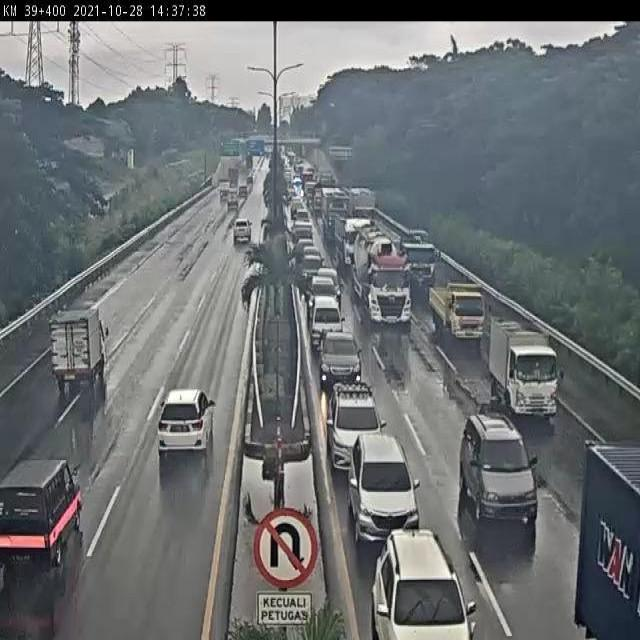big truck: (576, 432, 640, 640), (349, 232, 409, 332), (395, 224, 451, 303)
car: (366, 522, 478, 640), (453, 411, 538, 521), (3, 451, 84, 564), (348, 432, 416, 540), (326, 383, 387, 473), (153, 380, 217, 456), (315, 326, 364, 394), (308, 289, 343, 339)
small truck: (485, 312, 565, 417), (48, 304, 112, 388), (428, 276, 492, 345)
